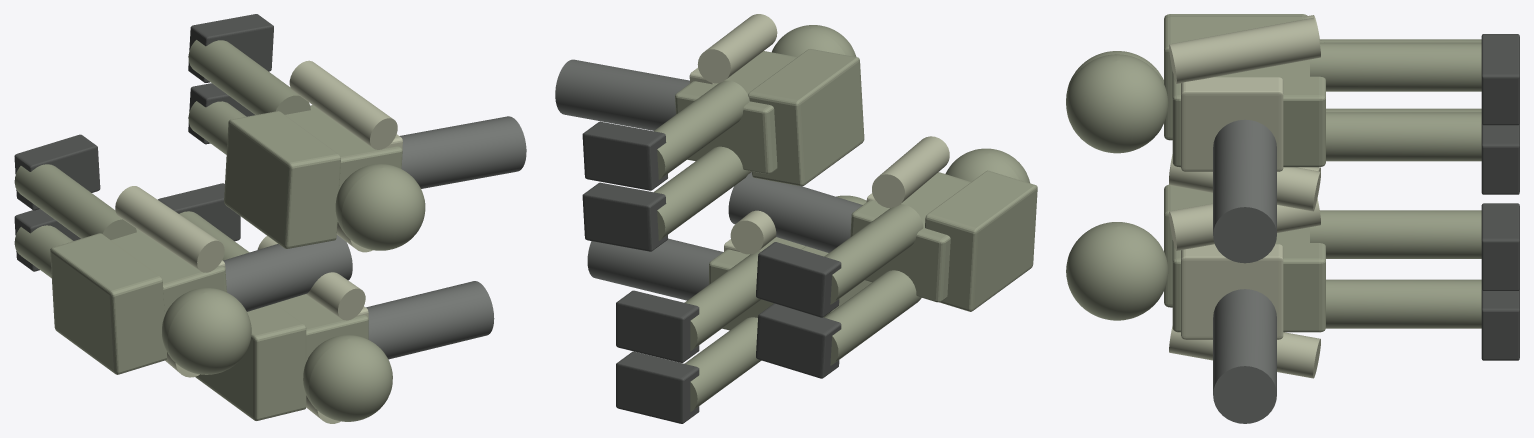
Rendered from v-u05-vanguard-anti-air-team-lod1.glb.
The picture shows the model from 3 angles, left to right: view 1: azimuth 30°, elevation 25°; view 2: azimuth 150°, elevation 25°; view 3: azimuth 270°, elevation 25°; orthographic projection. The views are drawn at different scales.
Visible parts, largest first — view 1: soldier_0_backpack, soldier_2_backpack, soldier_1_backpack, soldier_1_launcher, soldier_0_launcher, soldier_2_helmet, soldier_1_helmet, soldier_0_helmet, soldier_2_launcher, soldier_0_leg_1, soldier_2_leg_1, soldier_2_arm_1 (+13 smaller); view 2: soldier_0_backpack, soldier_2_backpack, soldier_0_launcher, soldier_2_launcher, soldier_1_launcher, soldier_2_torso, soldier_0_torso, soldier_2_boot_1, soldier_1_boot_1, soldier_1_boot_-1, soldier_2_boot_-1, soldier_0_boot_-1 (+13 smaller); view 3: soldier_0_launcher, soldier_0_leg_1, soldier_0_helmet, soldier_1_leg_1, soldier_1_helmet, soldier_1_launcher, soldier_0_leg_-1, soldier_1_leg_-1, soldier_0_chest, soldier_0_arm_1, soldier_1_chest, soldier_0_torso (+13 smaller).
Part boxes in pixels (x1,y1,x2,y2): soldier_0_backpack: (224,111,340,248); soldier_2_backpack: (50,233,167,374); soldier_1_backpack: (195,303,306,420); soldier_1_launcher: (366,281,494,359); soldier_0_launcher: (399,116,526,188); soldier_2_helmet: (162,288,251,374); soldier_1_helmet: (303,335,392,421); soldier_0_helmet: (335,164,425,250); soldier_2_launcher: (223,235,352,311); soldier_0_leg_1: (188,40,310,114); soldier_2_leg_1: (14,164,136,239); soldier_2_arm_1: (115,186,224,272); soldier_0_backpack: (748,49,864,186); soldier_2_backpack: (925,170,1037,311); soldier_0_launcher: (555,59,689,130); soldier_2_launcher: (728,172,862,252); soldier_1_launcher: (587,238,722,300); soldier_2_torso: (850,172,970,302); soldier_0_torso: (675,51,797,174); soldier_2_boot_1: (756,242,841,317); soldier_1_boot_1: (616,290,699,362); soldier_1_boot_-1: (616,351,699,423); soldier_2_boot_-1: (756,303,841,378); soldier_0_boot_-1: (582,182,667,251); soldier_0_launcher: (1213,119,1276,263); soldier_0_leg_1: (1310,42,1481,91); soldier_0_helmet: (1066,54,1168,153); soldier_1_leg_1: (1310,210,1481,258); soldier_1_helmet: (1066,222,1168,320); soldier_1_launcher: (1213,289,1276,423); soldier_0_leg_-1: (1326,112,1481,161); soldier_1_leg_-1: (1326,279,1481,328); soldier_0_chest: (1181,77,1283,171); soldier_0_arm_1: (1169,17,1320,83); soldier_1_chest: (1181,244,1283,339); soldier_0_torso: (1172,40,1325,167).
Size of what is drawn, in the model's own units: 2.69 by 1.89 by 2.13.
